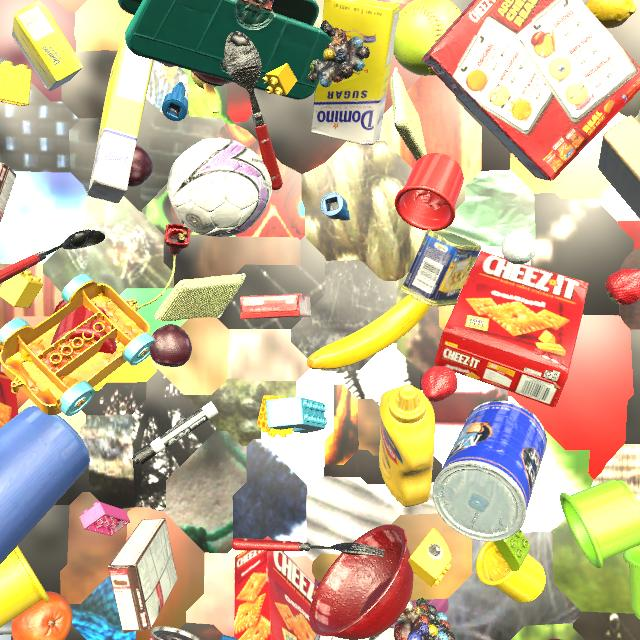ycb_002_master_chef_can: (432, 400, 547, 542)
ycb_003_cracker_box: (421, 0, 640, 181), (434, 251, 589, 408), (234, 536, 318, 640), (0, 350, 18, 428)
ycb_004_sugar_box: (311, 0, 401, 145), (87, 37, 154, 203), (12, 0, 83, 91)
ycb_005_tomato_soup_can: (149, 626, 200, 640)
ycb_006_mustard_bottle: (379, 385, 435, 507)
ycb_008_pudding_box: (108, 518, 178, 633), (0, 162, 17, 223)
ycb_009_gelatin_box: (240, 293, 311, 319)
ycb_010_potted_meat_can: (399, 229, 482, 307)
ycb_011_banana: (307, 295, 430, 370)
ycb_012_strawberry: (421, 366, 458, 402), (605, 269, 640, 305)
ycb_014_lemon: (586, 0, 636, 28)
ycb_017_orange: (11, 591, 73, 640)
ycb_018_plum: (150, 324, 192, 367), (128, 144, 153, 187)
